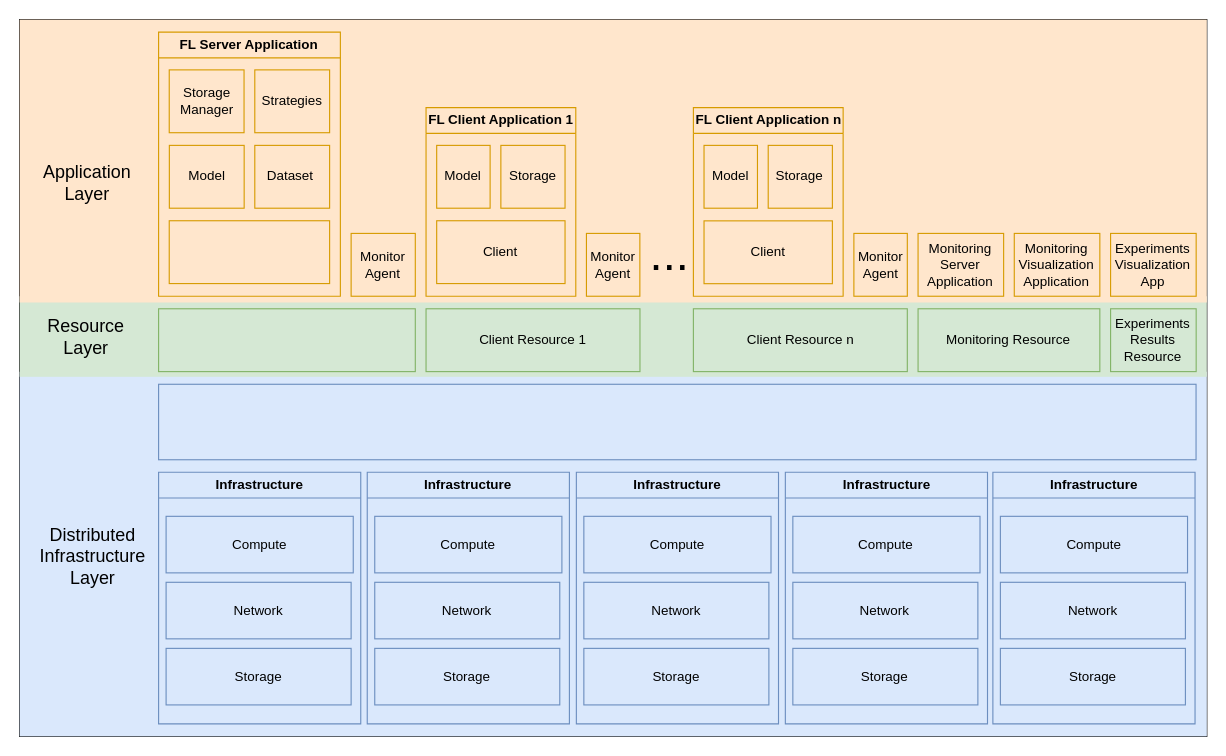
This 1226x756 diagram has some shape labels left out. The centre of each missing label's shape, as x and y in pixels:
"Infrastructure Manager" goes at point (676, 421).
"Server" goes at point (249, 252).
"Server Resource" goes at point (286, 340).
